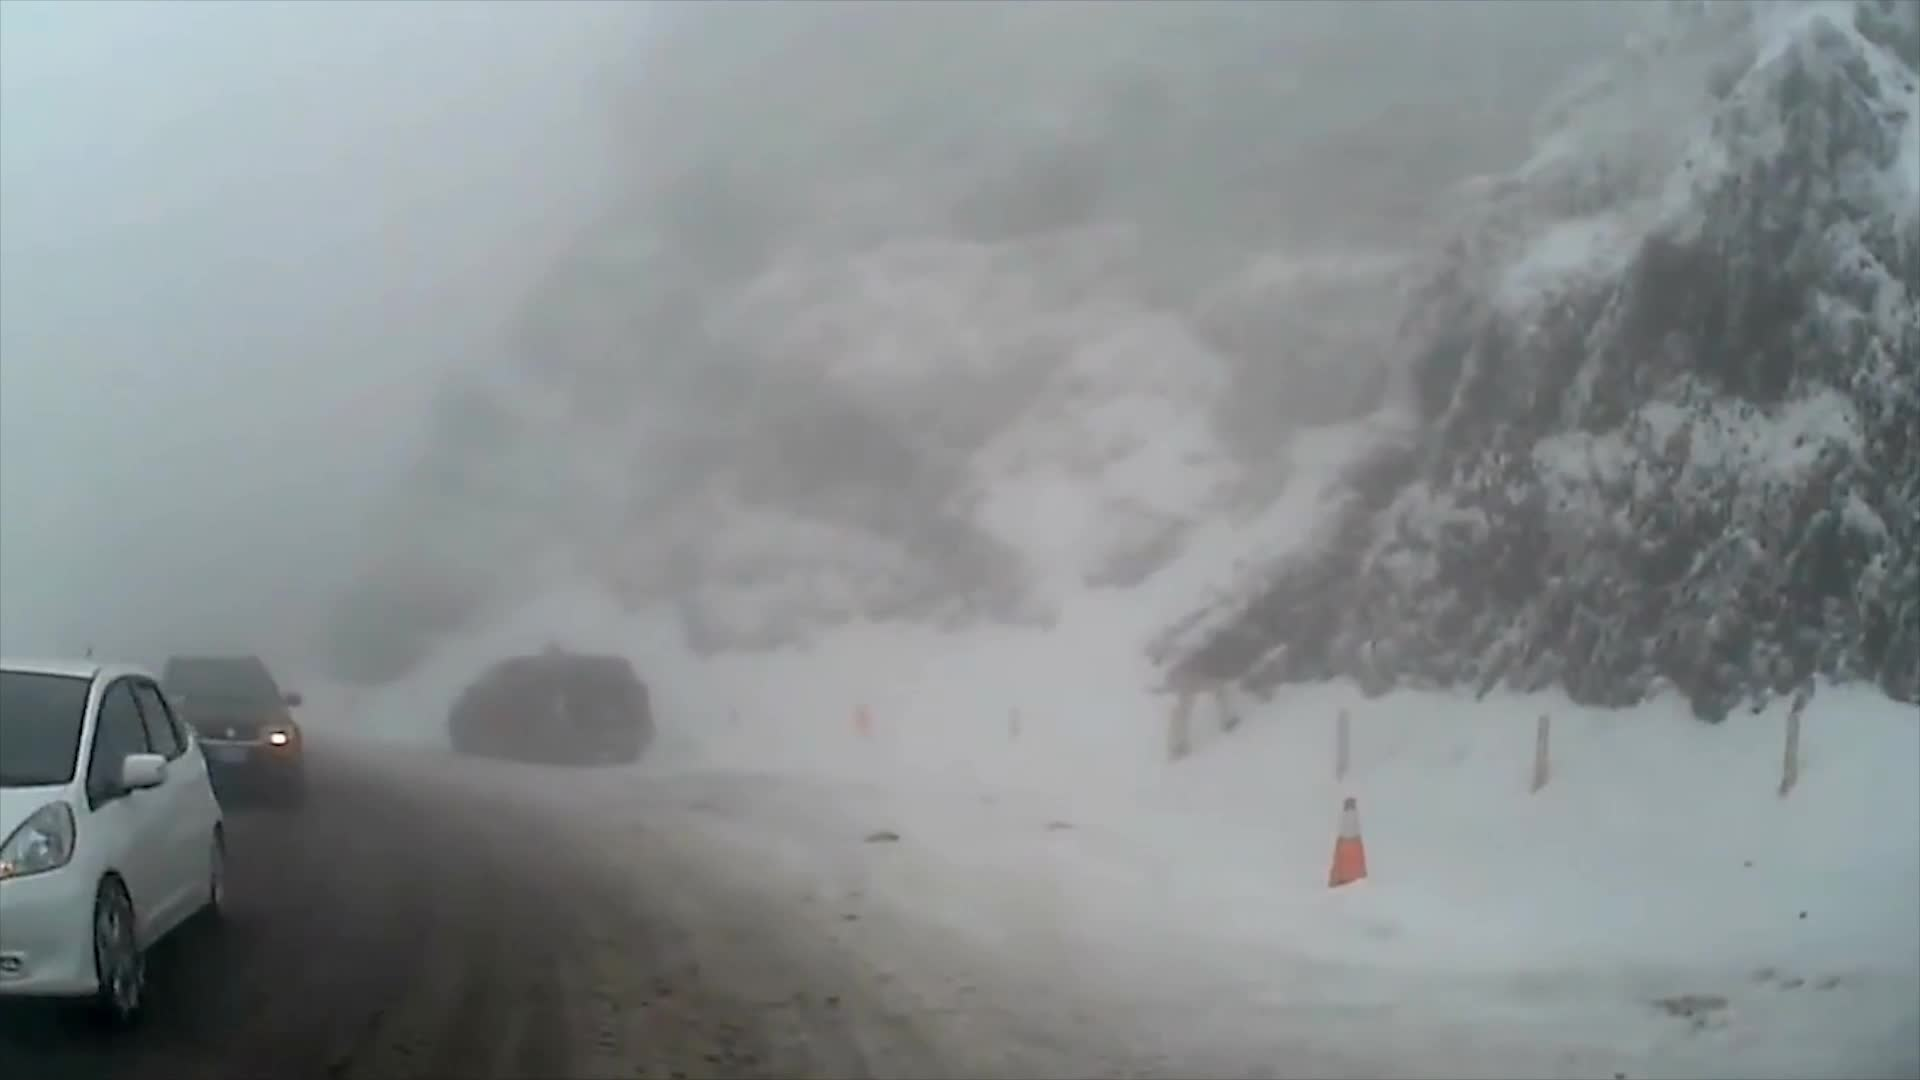vehicle: (0, 653, 237, 1029), (131, 647, 306, 810), (444, 651, 651, 767)
